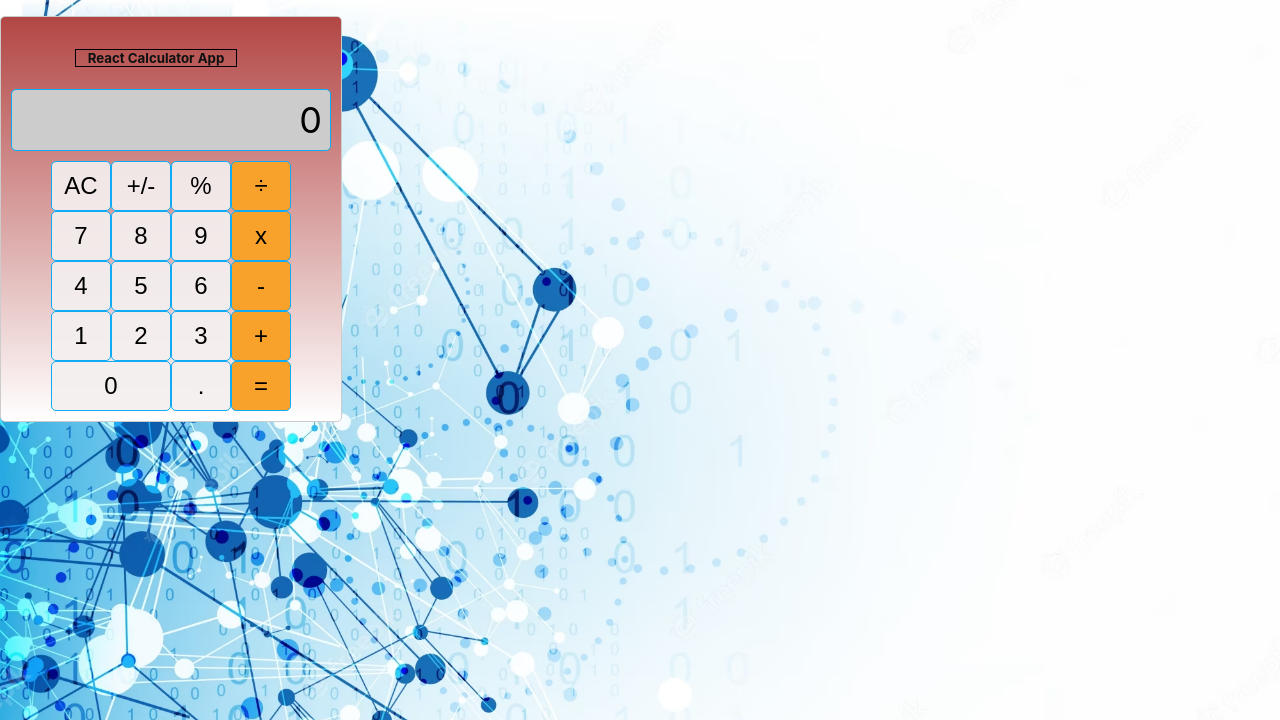
Test: Calculator › should handle button click
Click the button "7": [81, 236] box [51, 211, 111, 261]
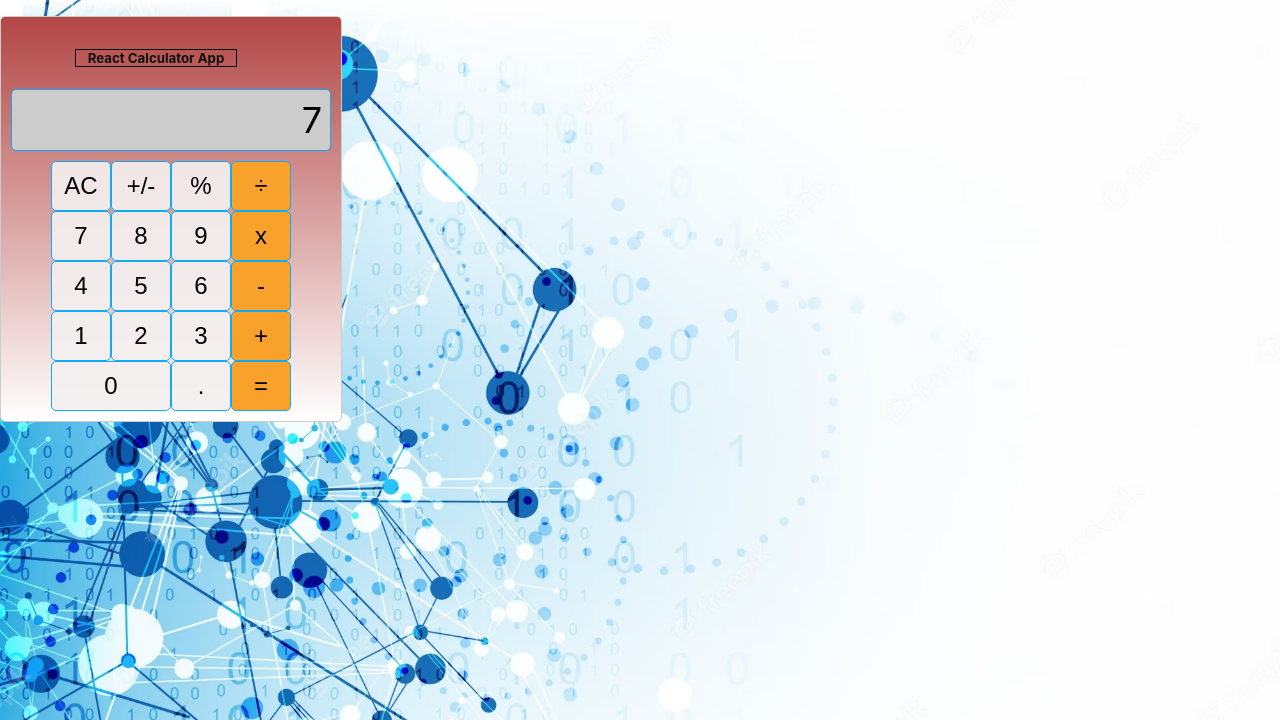
Expected: the text "7" is shown, [11, 89, 331, 151]
